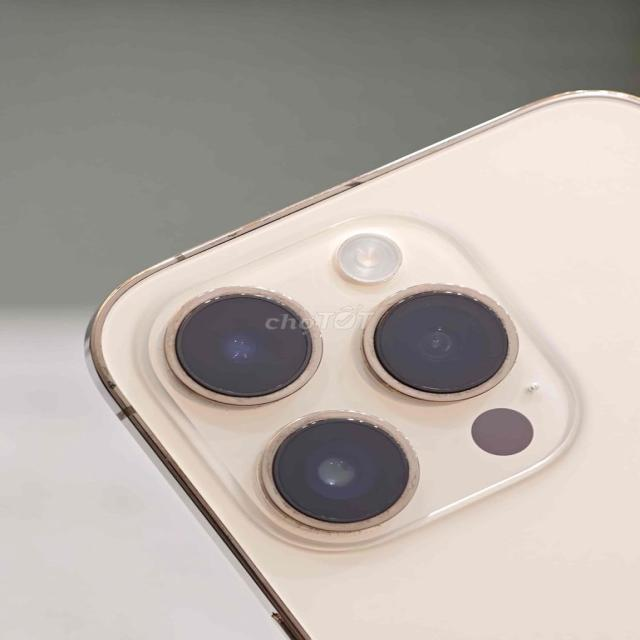gen_14: (70, 84, 640, 639)
